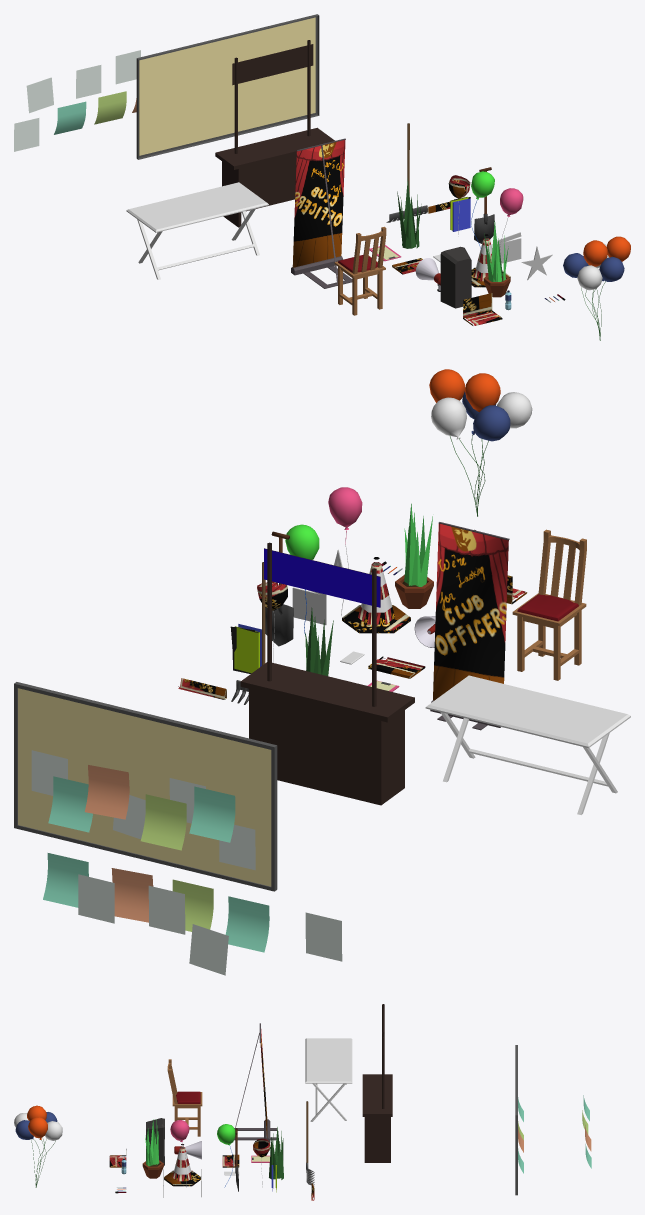
The model's file is multipurpose_hall.fbx.
3 views of the same model, one above another, from view 1: azimuth 30°, elevation 25°; view 2: azimuth 150°, elevation 25°; view 3: azimuth 270°, elevation 25° (orthographic). The views are drawn at different scales.
Visible parts, largest first — view 1: msh_HallBulletinBoard, msh_ClubBooth, msh_ClubBannerRollup, msh_FoldingTable, msh_BalloonCluster, msh_VintageChair, msh_Speaker, msh_PlantPot1, msh_LaptopOpen, msh_Plant, msh_FlyerDebateSociety, msh_FlyerYesO (+11 smaller); view 2: msh_HallBulletinBoard, msh_ClubBooth, msh_ClubBannerRollup, msh_FoldingTable, msh_BalloonCluster, msh_VintageChair, msh_PlantPot1, msh_FlyerDebateSociety, msh_TrafficCone, msh_FlyerParagon, msh_FlyerKalinaw, msh_Flyer3 (+10 smaller); view 3: msh_ClubBooth, msh_FoldingTable, msh_BalloonCluster, msh_VintageChair, msh_TrafficCone, msh_ClubBannerRollup, msh_HallBulletinBoard, msh_PlantPot1, msh_Plant, msh_Speaker, msh_Balloon2, msh_Balloon1 (+1 smaller).
Part boxes in pixels (left/top/right/bottom): msh_HallBulletinBoard: left=136, top=14, right=319, bottom=159; msh_ClubBooth: left=215, top=40, right=334, bottom=227; msh_ClubBannerRollup: left=291, top=138, right=352, bottom=288; msh_FoldingTable: left=126, top=182, right=268, bottom=279; msh_BalloonCluster: left=563, top=236, right=630, bottom=340; msh_VintageChair: left=334, top=226, right=386, bottom=315; msh_Speaker: left=440, top=246, right=471, bottom=308; msh_PlantPot1: left=483, top=221, right=510, bottom=297; msh_LaptopOpen: left=463, top=293, right=502, bottom=325; msh_Plant: left=397, top=178, right=421, bottom=248; msh_FlyerDebateSociety: left=54, top=101, right=86, bottom=134; msh_FlyerYesO: left=94, top=91, right=126, bottom=124; msh_HallBulletinBoard: left=14, top=682, right=277, bottom=891; msh_ClubBooth: left=240, top=542, right=414, bottom=805; msh_ClubBannerRollup: left=430, top=522, right=509, bottom=730; msh_FoldingTable: left=425, top=675, right=630, bottom=814; msh_BalloonCluster: left=429, top=369, right=532, bottom=516; msh_VintageChair: left=512, top=529, right=586, bottom=680; msh_PlantPot1: left=395, top=503, right=433, bottom=608; msh_FlyerDebateSociety: left=225, top=896, right=269, bottom=952; msh_TrafficCone: left=342, top=557, right=410, bottom=633; msh_FlyerParagon: left=111, top=868, right=153, bottom=922; msh_FlyerKalinaw: left=43, top=853, right=88, bottom=907; msh_Flyer3: left=78, top=874, right=114, bottom=923; msh_ClubBooth: left=362, top=1004, right=392, bottom=1162; msh_FoldingTable: left=305, top=1038, right=352, bottom=1121; msh_BalloonCluster: left=14, top=1105, right=62, bottom=1187; msh_VintageChair: left=167, top=1059, right=202, bottom=1136; msh_TrafficCone: left=164, top=1144, right=200, bottom=1186; msh_ClubBannerRollup: left=234, top=1023, right=276, bottom=1142; msh_HallBulletinBoard: left=515, top=1045, right=523, bottom=1195; msh_PlantPot1: left=142, top=1119, right=163, bottom=1178; msh_Plant: left=269, top=1127, right=283, bottom=1179; msh_Speaker: left=146, top=1118, right=164, bottom=1165; msh_Balloon2: left=170, top=1120, right=189, bottom=1187; msh_Balloon1: left=217, top=1124, right=235, bottom=1187.
Size of the model in its own units: 7.57 by 3.86 by 16.4.
